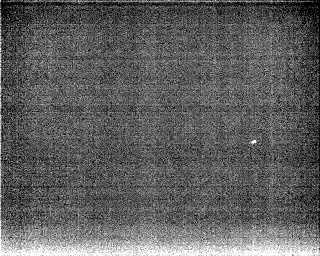AIRPLANE: (249, 137, 259, 147)
